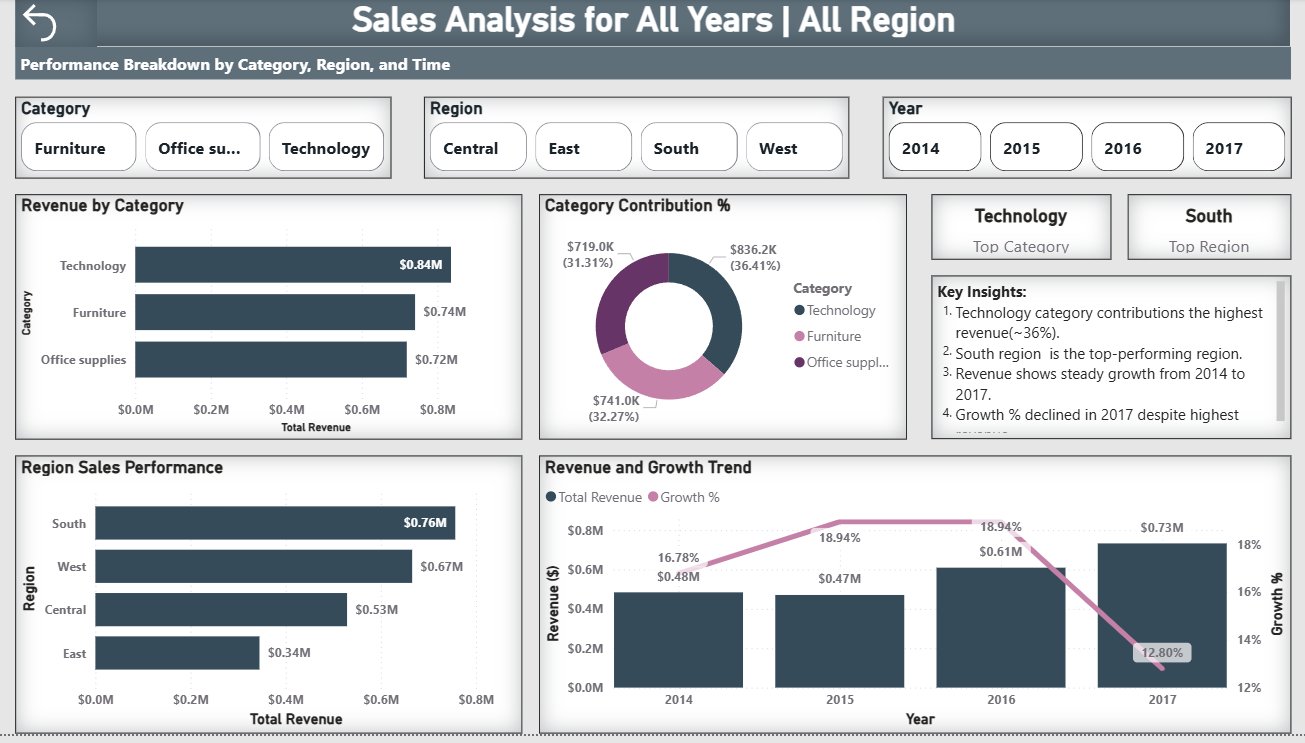

Layout of this report page (visuals, bound fields, positions):
{"tool":"powerbi","page":{"name":"Sales Analysis","canvas":[1280,720],"ordinal":1},"visuals":[{"type":"advancedSlicerVisual","fields":{"Values":["Dim_Products.Category"]},"box":[16,96,368,80],"z":0},{"type":"advancedSlicerVisual","fields":{"Values":["Dim_Region.Region"]},"box":[416,96,416,80],"z":1000},{"type":"advancedSlicerVisual","fields":{"Values":["Dim_Date.full_date.Variation.Date Hierarchy.Year"]},"box":[864,96,400,80],"z":2000},{"type":"barChart","title":"Revenue by Category","fields":{"Category":["Dim_Products.Category"],"Y":["Measures (2).Total Revenue"]},"box":[16,192,496,240],"z":3000},{"type":"donutChart","title":" Category Contribution %","fields":{"Category":["Dim_Products.Category"],"Y":["Measures (2).Total Revenue"]},"box":[528,192,360,240],"z":4000},{"type":"barChart","title":" Region Sales Performance","fields":{"Category":["Dim_Region.Region"],"Y":["Measures (2).Total Revenue"]},"box":[16,448,496,272],"z":5000},{"type":"lineClusteredColumnComboChart","title":"Revenue and Growth Trend","fields":{"Category":["Dim_Date.full_date.Variation.Date Hierarchy.Year","Dim_Date.full_date.Variation.Date Hierarchy.Quarter","Dim_Date.full_date.Variation.Date Hierarchy.Month","Dim_Date.full_date.Variation.Date Hierarchy.Day"],"Y2":["Measures (2).Growth %"],"Y":["Measures (2).Total Revenue"]},"box":[528,448,736,272],"z":6000},{"type":"textbox","box":[912,272,352,160],"z":7000},{"type":"textbox","box":[16,0,1248,48],"z":8000},{"type":"card","fields":{"Values":["Measures (2).Top Category"]},"box":[912,192,176,64],"z":9000},{"type":"card","fields":{"Values":["Measures (2).Top Region"]},"box":[1104,192,160,64],"z":10000},{"type":"textbox","box":[16,48,1248,32],"z":11000},{"type":"actionButton","box":[16,0,80,48],"z":12000}]}

Visuals, with their boxes in screenshot pixels (x1, y1, x2, y2), scaled from the page's 1280x720 canvas onto the 1305x743 screenshot:
advancedSlicerVisual - Dim_Products.Category: locate(16, 99, 392, 182)
advancedSlicerVisual - Dim_Region.Region: locate(424, 99, 848, 182)
advancedSlicerVisual - Dim_Date.full_date.Variation.Date Hierarchy.Year: locate(881, 99, 1289, 182)
"Revenue by Category" barChart: locate(16, 198, 522, 446)
" Category Contribution %" donutChart: locate(538, 198, 905, 446)
" Region Sales Performance" barChart: locate(16, 462, 522, 742)
"Revenue and Growth Trend" lineClusteredColumnComboChart: locate(538, 462, 1289, 742)
textbox: locate(930, 281, 1289, 446)
textbox: locate(16, 0, 1289, 50)
card - Measures (2).Top Category: locate(930, 198, 1109, 264)
card - Measures (2).Top Region: locate(1126, 198, 1289, 264)
textbox: locate(16, 50, 1289, 83)
actionButton: locate(16, 0, 98, 50)
